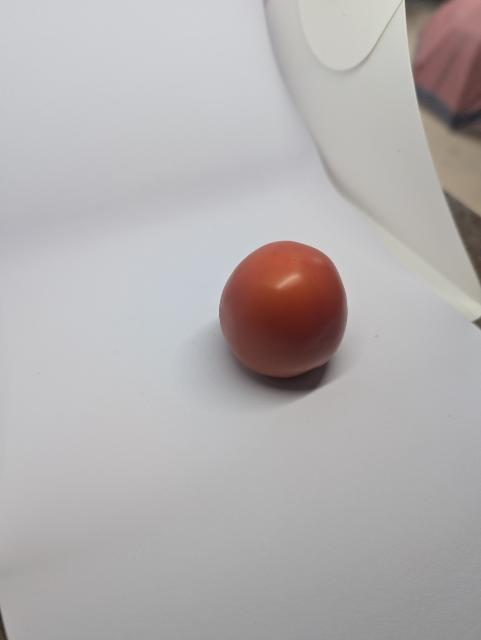red: (209, 221, 366, 385)
